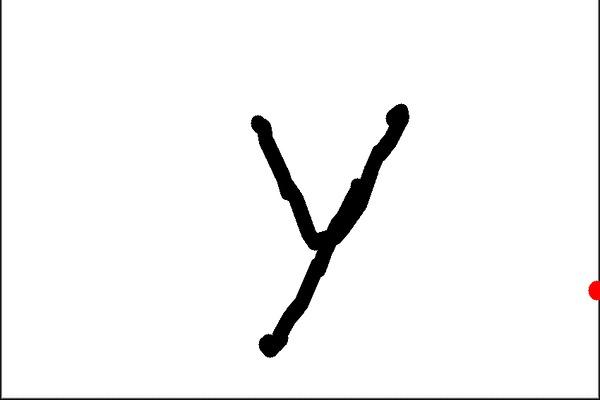Y: (228, 97, 425, 370)
